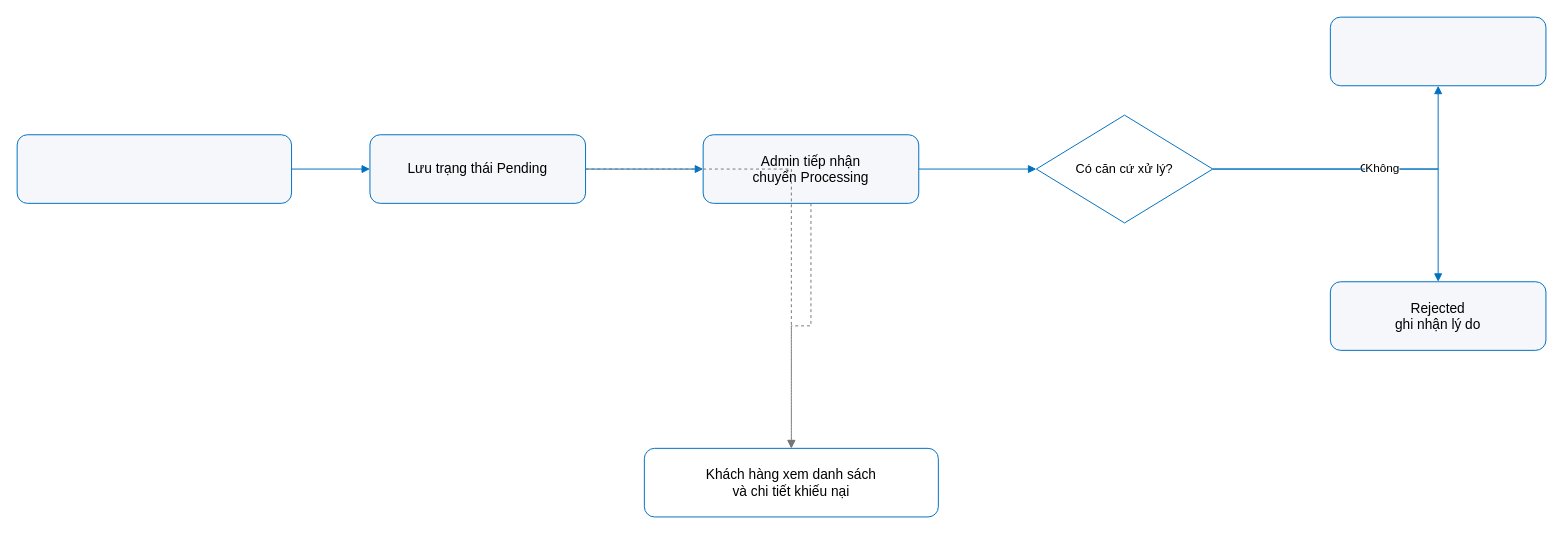
The diagram is 1563 pixels wide and 534 high, and some of its shapes have lost their labels. Here are the shapes that lost their labels. From the top down, the box of each, then its label:
(1329, 16, 1546, 86): Resolved ghi nhận kết quả
(16, 134, 292, 203): Khách hàng tạo khiếu nại gắn đơn / voucher liên quan
